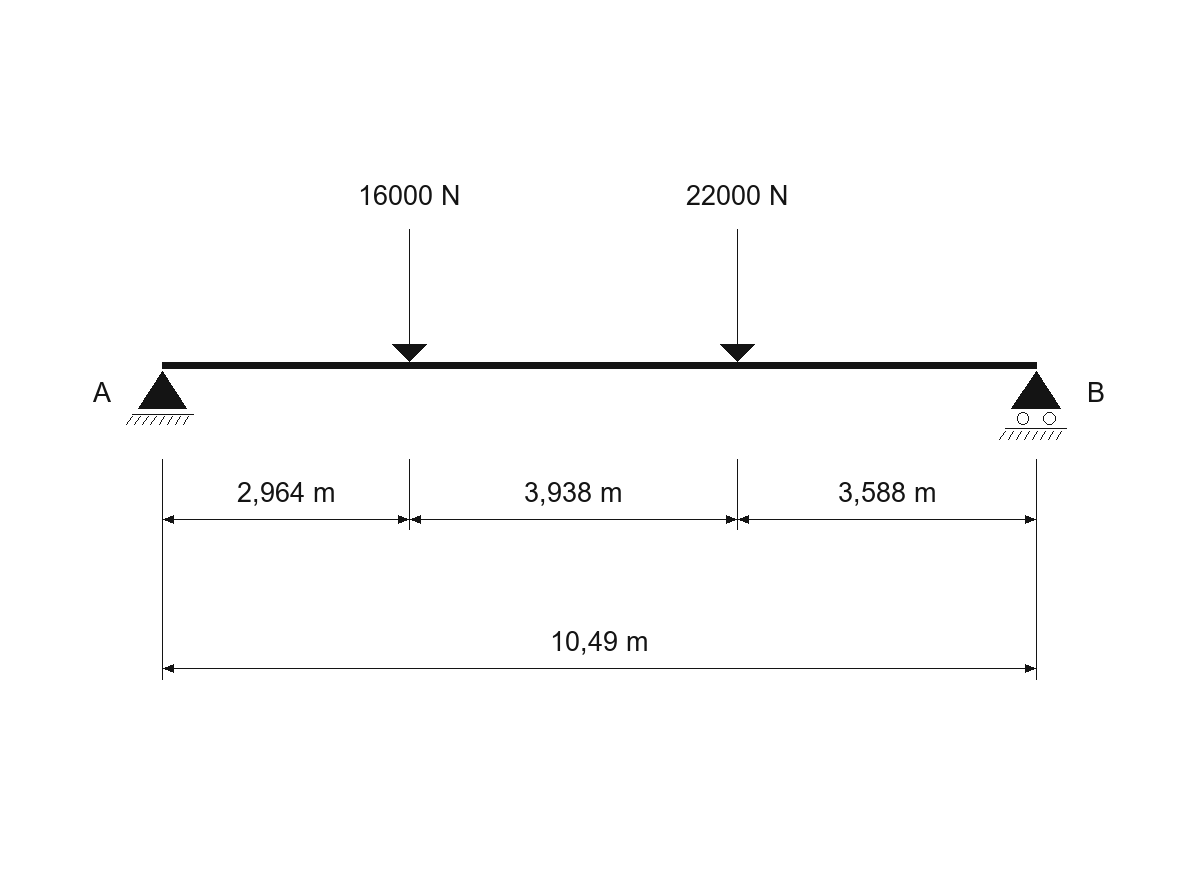pin_support: (126, 371, 194, 425)
point_load: (392, 229, 427, 362), (720, 229, 755, 362)
roller_support: (999, 371, 1067, 440)
